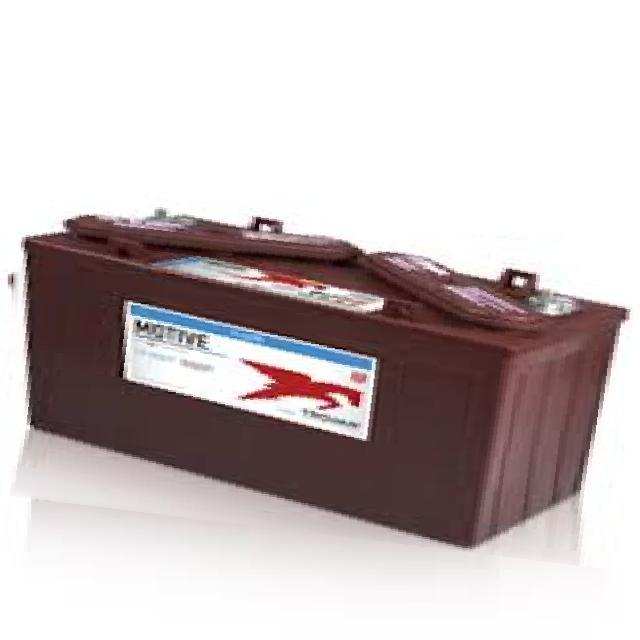Battery: (12, 152, 640, 560)
